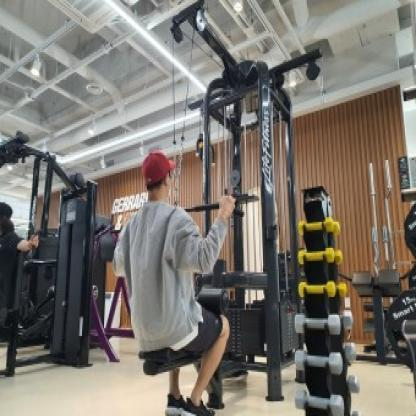Lat Pull Down: (82, 0, 336, 416)
